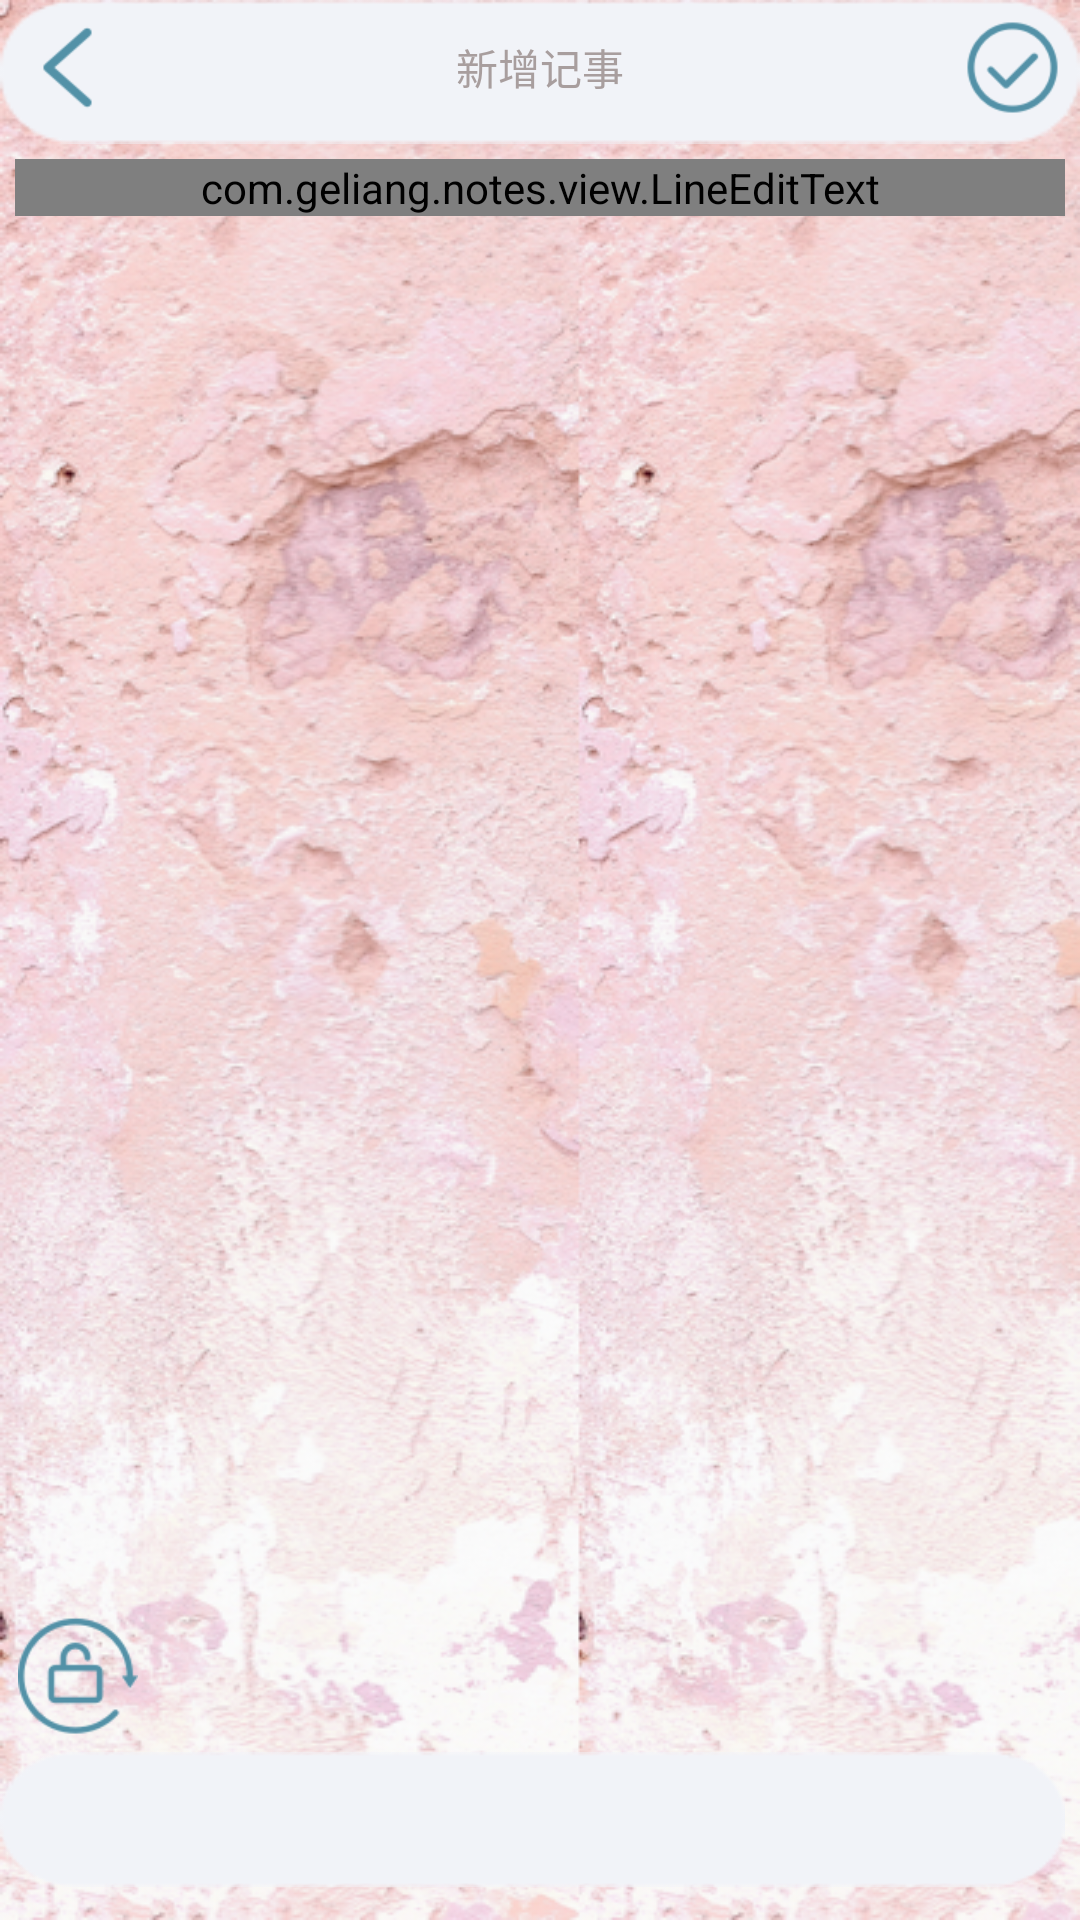

Where to tap for icons on this 1080px×1920px app screen, as (x=x, y=y):
navigationbar backup: (x=67, y=67)
navigationbar save: (x=1012, y=67)
un locky: (x=78, y=1677)
